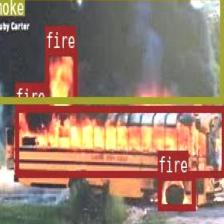fire: (14, 105, 224, 175), (45, 49, 76, 112), (157, 174, 195, 208)
smoke: (0, 0, 223, 102)
